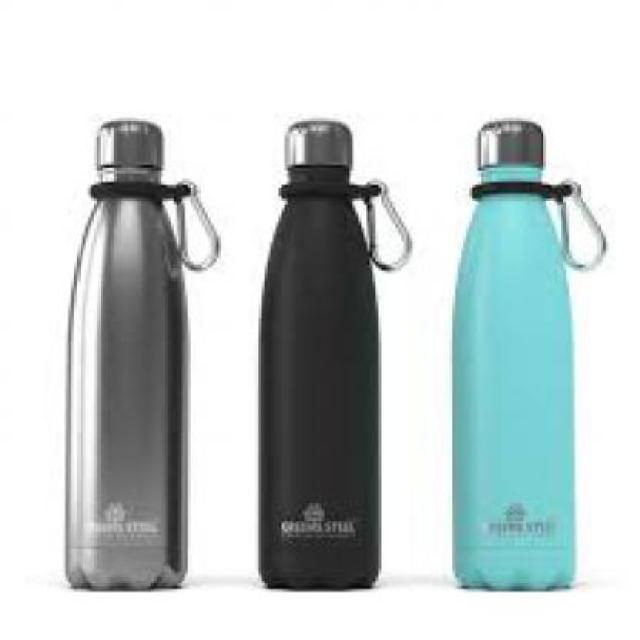Drinking: (48, 97, 208, 606), (427, 111, 588, 612)
